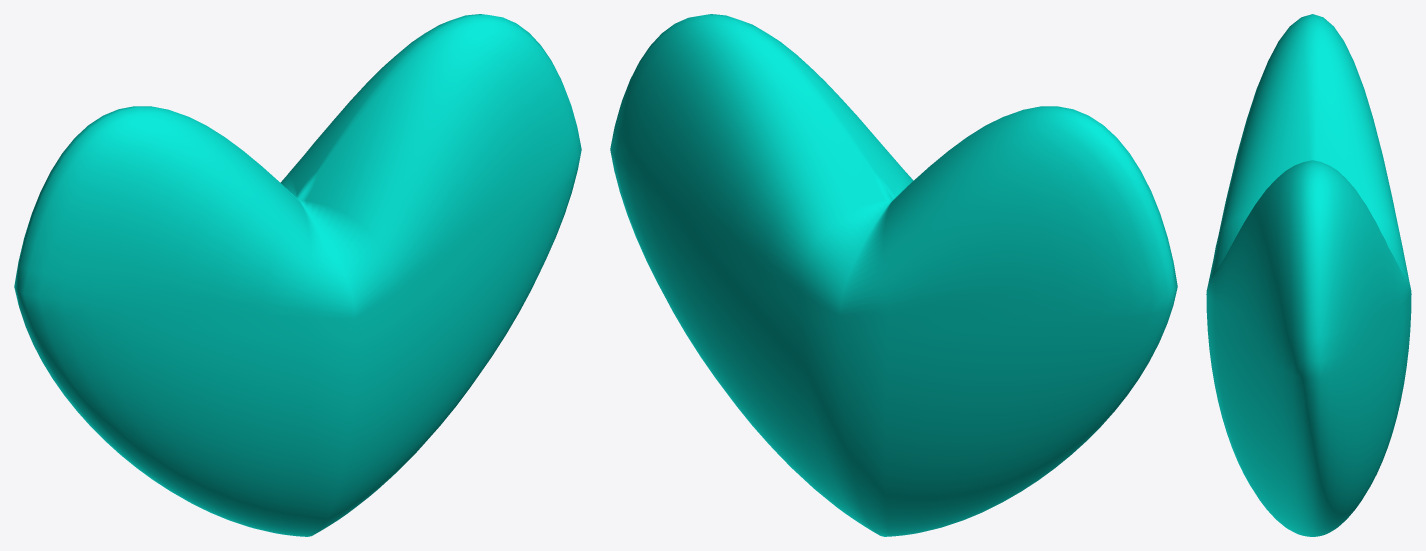
File: HealthPickup.fbx
The picture shows the model from 3 angles, left to right: view 1: azimuth 30°, elevation 25°; view 2: azimuth 150°, elevation 25°; view 3: azimuth 270°, elevation 25°; orthographic projection. The views are drawn at different scales.
Parts seen in each view (by area): view 1: pSphere19; view 2: pSphere19; view 3: pSphere19.
Part boxes in pixels (box(x1,y1,x2,y2)): pSphere19: box(14, 14, 581, 536); pSphere19: box(610, 14, 1177, 536); pSphere19: box(1206, 14, 1411, 536).
Bounding box in the file's own units: 102 × 82.3 × 34.6.
